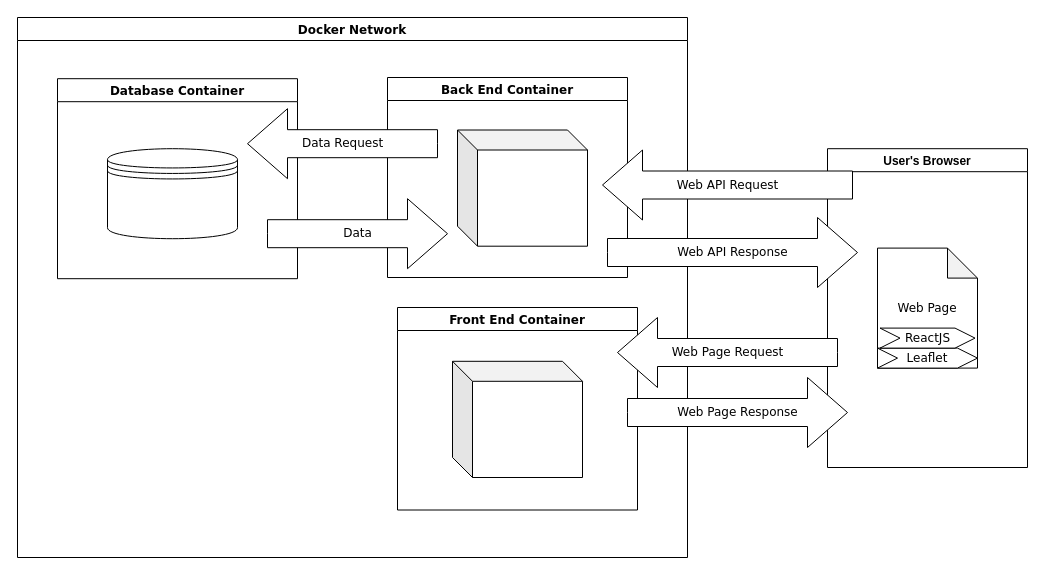
The diagram is 1045 pixels wide and 575 high, and some of its shapes have lost their labels. Each missing label, with the centre of its shape:
"Django Web Server" goes at (x=522, y=187).
"MySQL" goes at (x=172, y=193).
"Node Web Server" goes at (x=517, y=419).
